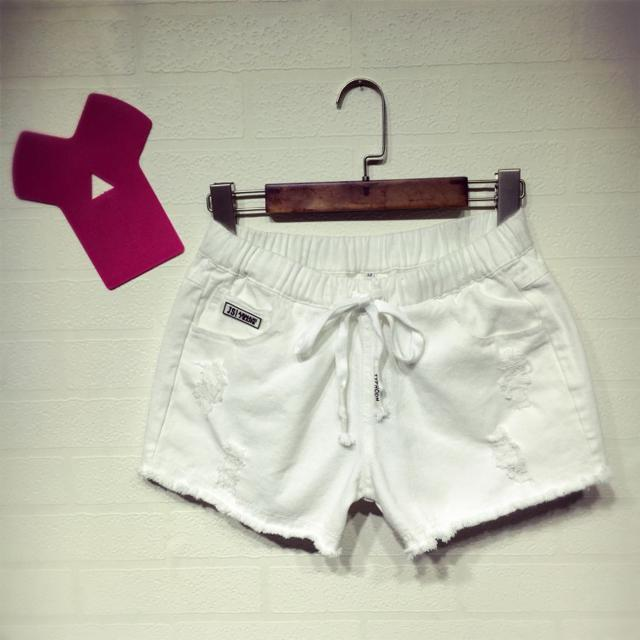Shorts: (137, 202, 609, 566)
